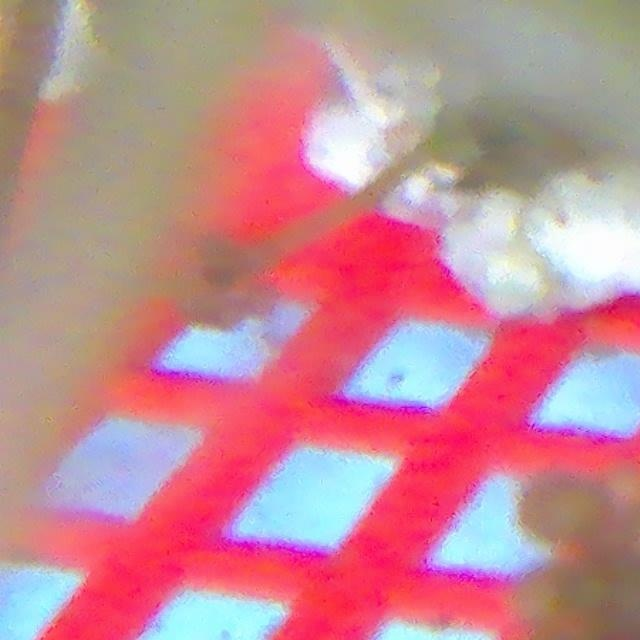SeaGrape: (554, 572, 618, 633)
